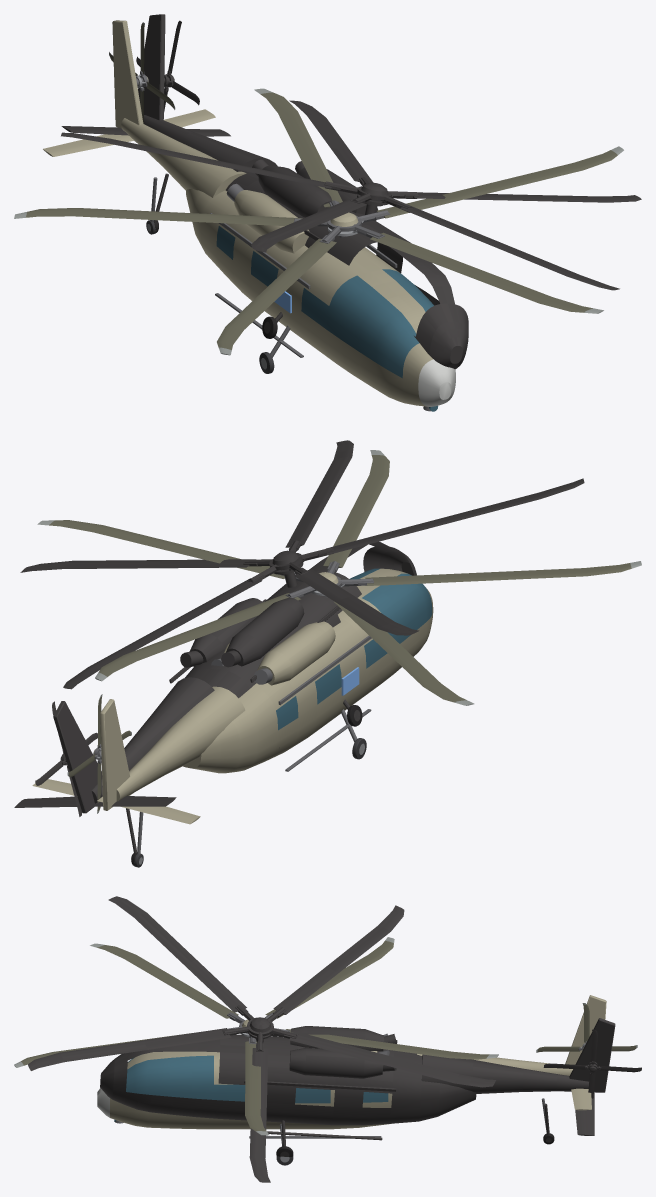
File: helicopter__z_20.glb
3 renders of one model, top to bottom at view 1: azimuth 30°, elevation 25°; view 2: azimuth 150°, elevation 25°; view 3: azimuth 270°, elevation 25°, orthographic. The views are drawn at different scales.
Visible parts, largest first — view 1: Fuselage_Mesh, Wreck, Rotor_Main_Mesh, Engines_Mesh, Rotor_Tail_Mesh, Landing_Gear_Mesh; view 2: Wreck, Fuselage_Mesh, Rotor_Main_Mesh, Engines_Mesh, Rotor_Tail_Mesh, Landing_Gear_Mesh; view 3: Wreck, Fuselage_Mesh, Rotor_Main_Mesh, Rotor_Tail_Mesh.
Boxes of the visible parts, x1=… form: Fuselage_Mesh: x1=43, y1=20, x2=455, y2=411; Wreck: x1=61, y1=14, x2=641, y2=369; Rotor_Main_Mesh: x1=14, y1=88, x2=623, y2=355; Engines_Mesh: x1=226, y1=183, x2=309, y2=253; Rotor_Tail_Mesh: x1=109, y1=22, x2=175, y2=123; Landing_Gear_Mesh: x1=146, y1=177, x2=290, y2=373; Wreck: x1=14, y1=440, x2=584, y2=865; Fuselage_Mesh: x1=32, y1=568, x2=433, y2=824; Rotor_Main_Mesh: x1=37, y1=450, x2=641, y2=705; Engines_Mesh: x1=211, y1=621, x2=335, y2=685; Rotor_Tail_Mesh: x1=67, y1=694, x2=131, y2=813; Landing_Gear_Mesh: x1=133, y1=709, x2=366, y2=867; Wreck: x1=28, y1=896, x2=641, y2=1182; Fuselage_Mesh: x1=97, y1=995, x2=606, y2=1138; Rotor_Main_Mesh: x1=14, y1=937, x2=498, y2=1135; Rotor_Tail_Mesh: x1=536, y1=1003, x2=637, y2=1052.
Size of what is drawn, in the model's own units: 15.26 by 6.28 by 19.8.
